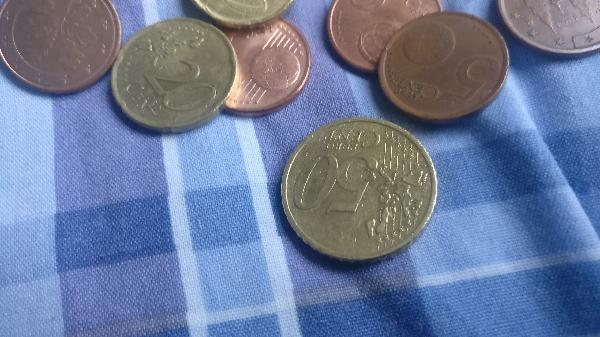Fifty Cent: (280, 115, 446, 260)
Five Cent: (385, 13, 511, 123), (1, 5, 122, 102), (197, 16, 315, 115), (326, 1, 445, 76), (493, 1, 598, 67)
Twenty Cent: (106, 17, 240, 133)
